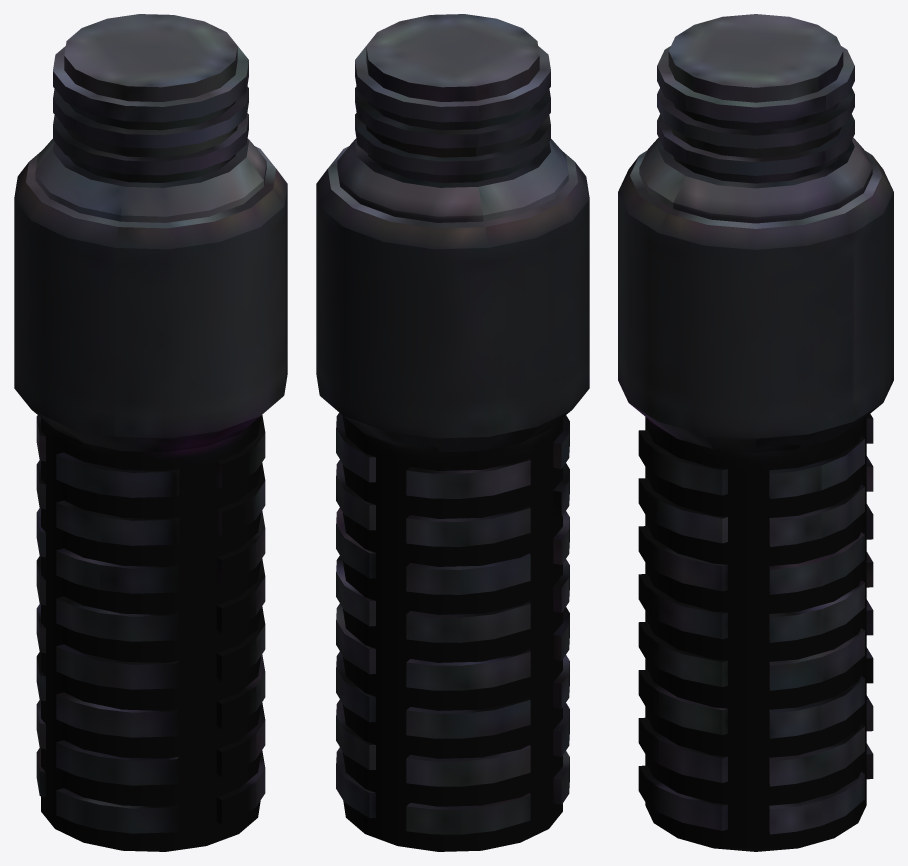
File: taron_grip.obj
3 renders of one model, left to right at view 1: azimuth 30°, elevation 25°; view 2: azimuth 150°, elevation 25°; view 3: azimuth 270°, elevation 25°, orthographic.
Parts seen in each view (by area): view 1: Circle.004; view 2: Circle.004; view 3: Circle.004.
Boxes of the visible parts, x1,y1,x2,y2 form: Circle.004: (14,14,287,851); Circle.004: (316,14,589,851); Circle.004: (618,14,893,851).
Bounding box in the file's own units: 0.0899 × 0.2712 × 0.0899.
